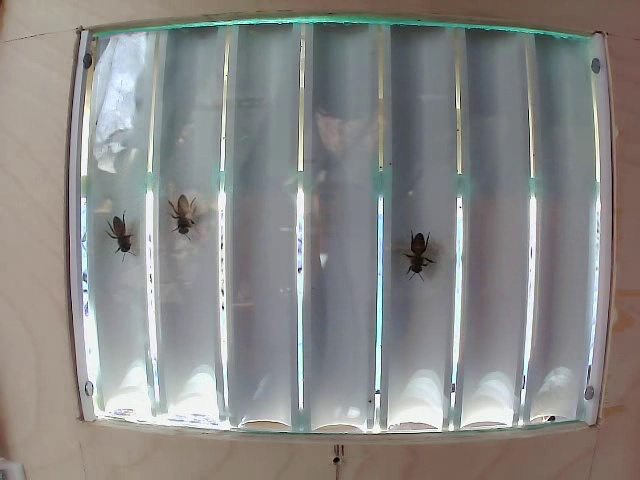bee: (391, 223, 435, 281), (104, 210, 138, 256), (160, 190, 195, 231)
